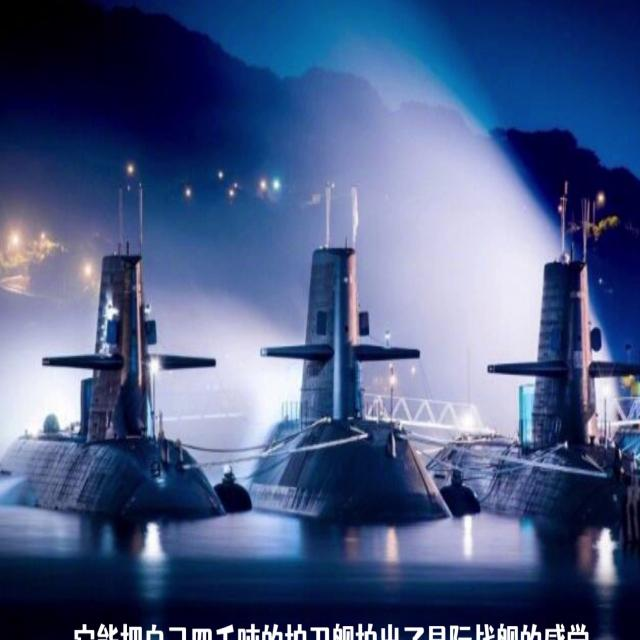navalvessels: (459, 248, 640, 556), (241, 242, 424, 546), (25, 242, 200, 547)
